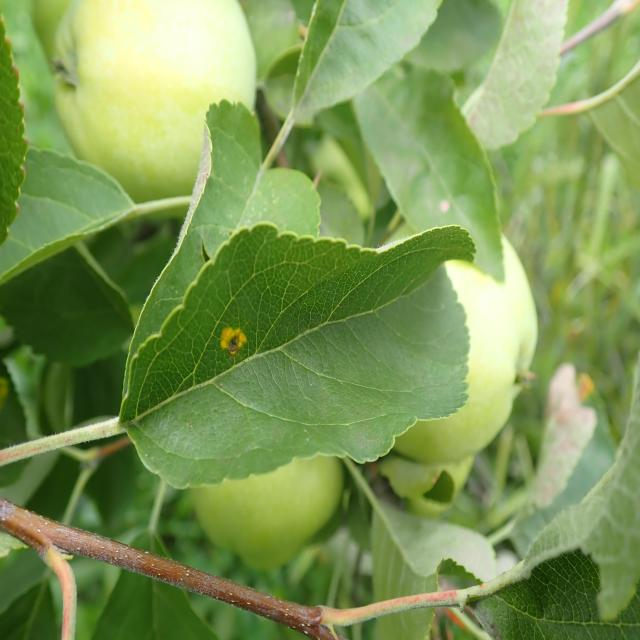Rust: (213, 316, 254, 369)
